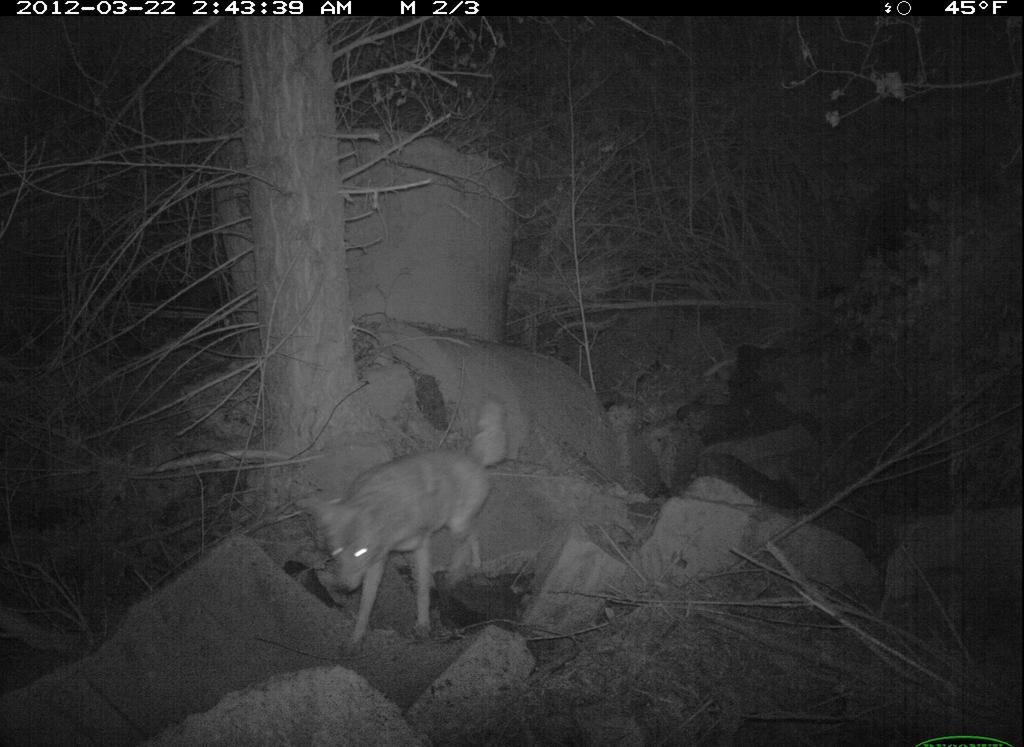coyote: (304, 393, 520, 656)
